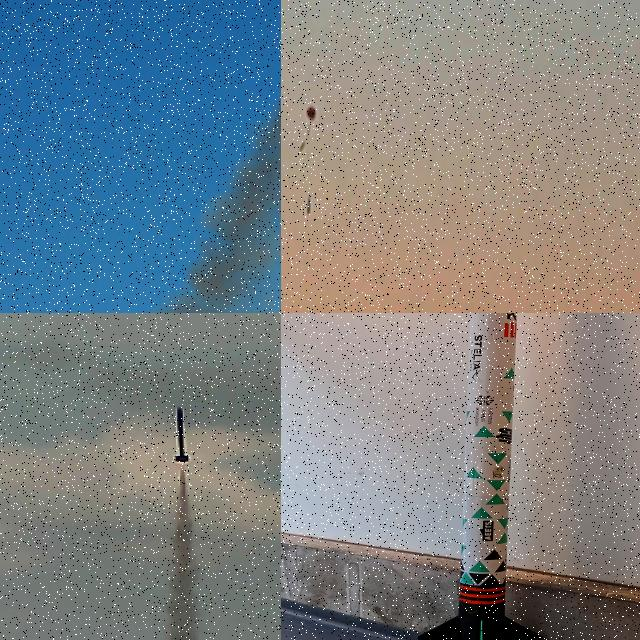Rocket: (417, 313, 543, 640), (173, 407, 190, 462), (306, 196, 311, 214)
